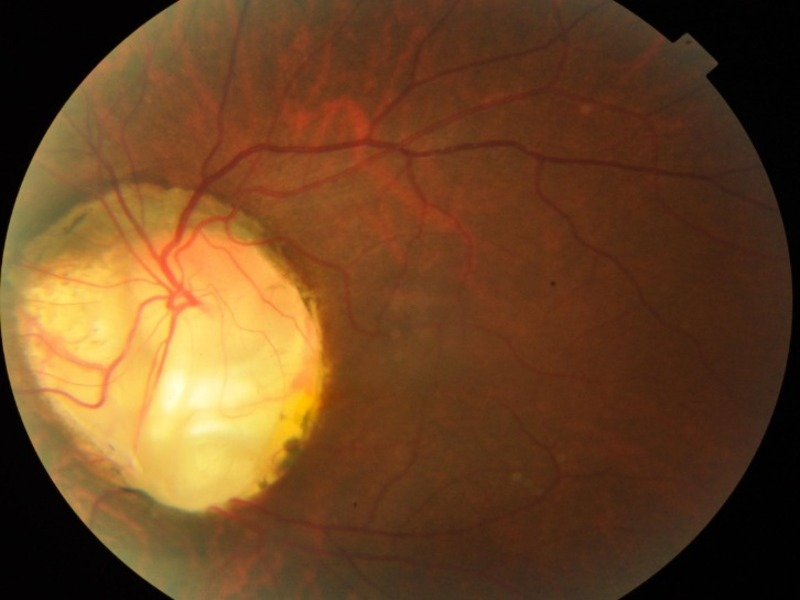Optic Cup: (18, 234, 323, 514)
Optic Disc: (1, 182, 327, 234)
